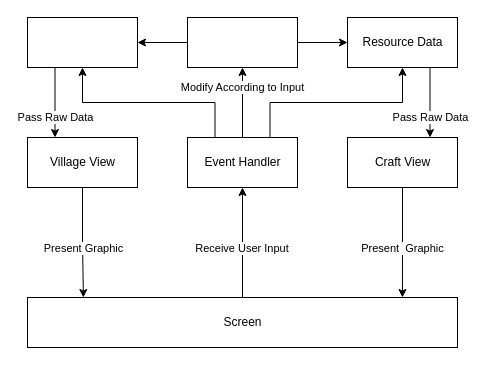
The diagram is 485 pixels wide and 365 high, and some of its shapes have lost their labels. The shapes that lost their labels are listed below. From the top down, each one's centre as x and y in pixels, then its label:
At point (82, 42): "Card System".
At point (242, 42): "Player Data".
